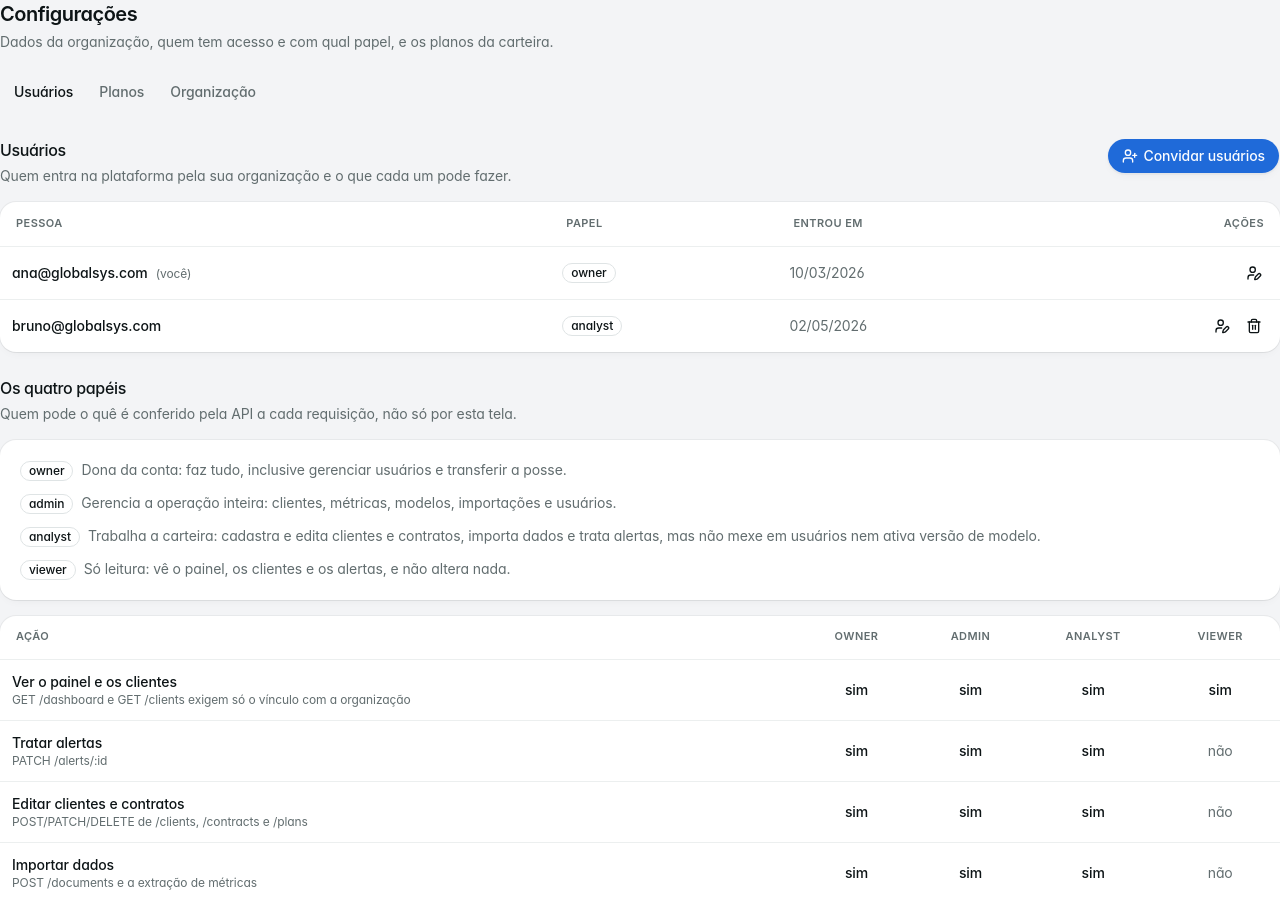
Configurações — aba Usuários › barra o último owner que tenta abrir mão do papel, com mensagem clara
Expected: the text "ana@globalsys.com" is shown, [12,264,148,280]
Click the button named "Mudar o papel de ana@globalsys.com" at x=1254, y=272, box [1240,258,1268,286]
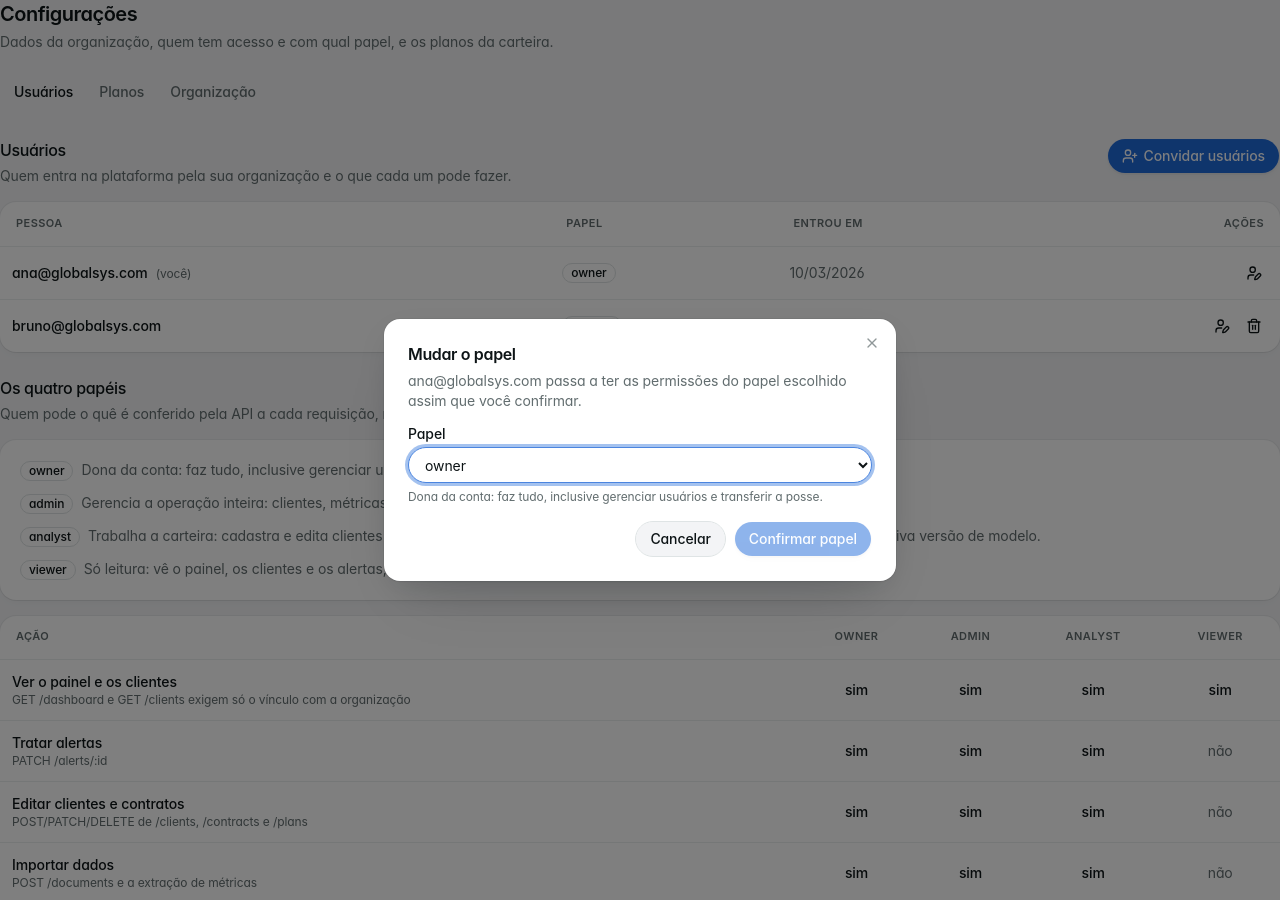
Select "admin" in the dropdown labelled "Papel" at x=640, y=465, box [408,447,872,483]
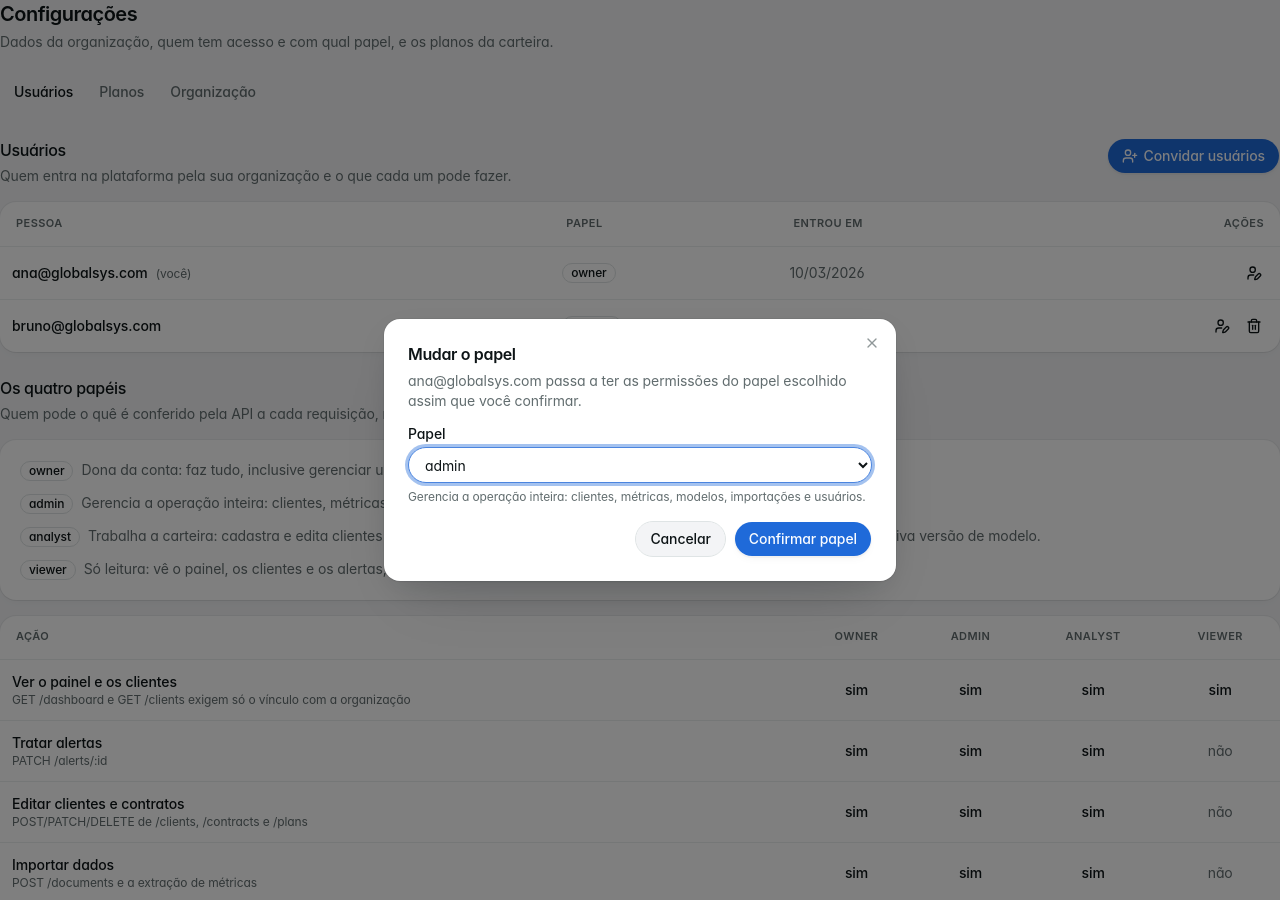
Click the button "Confirmar papel" at x=803, y=539, box [734,521,872,557]
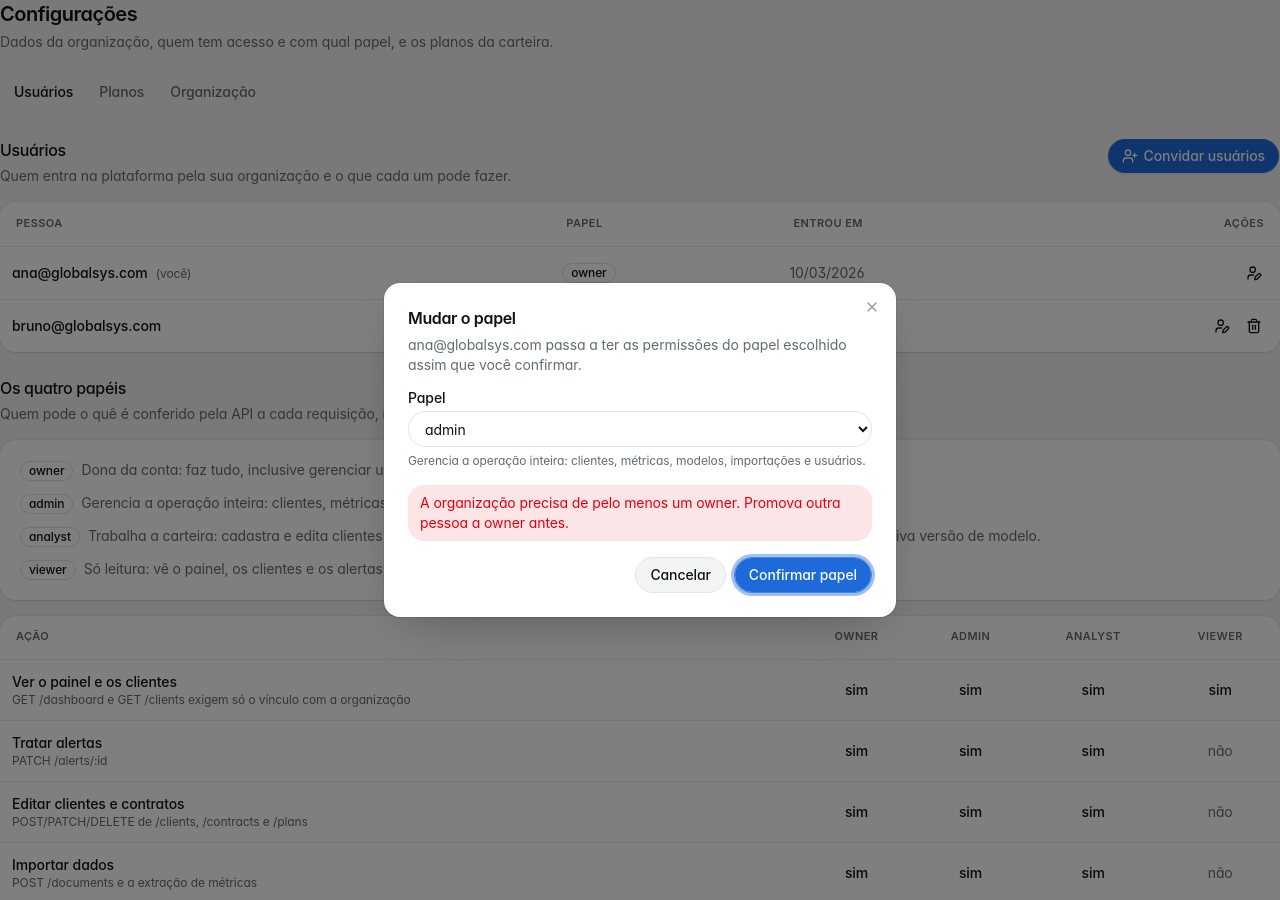
Expected: the icon "owner" is shown, [562,263,616,283]
Result: the message shows "A organização precisa de pelo menos um owner." at [420,494,840,531]
